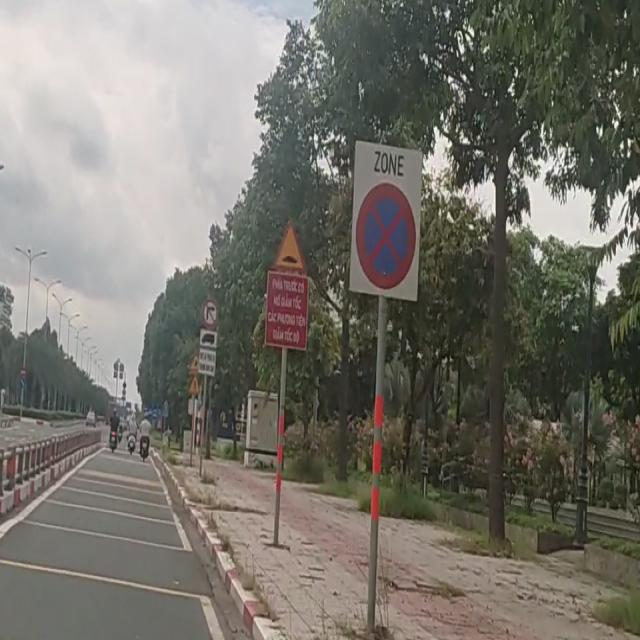Car: (85, 411, 96, 424)
Motorcyclist: (139, 418, 150, 457), (109, 414, 118, 451), (127, 432, 135, 454)
Sign: (350, 141, 421, 300), (264, 270, 309, 351), (274, 222, 306, 271), (199, 349, 215, 375), (203, 299, 216, 325), (200, 329, 217, 348), (190, 357, 199, 375), (190, 379, 200, 394), (188, 398, 197, 414)
